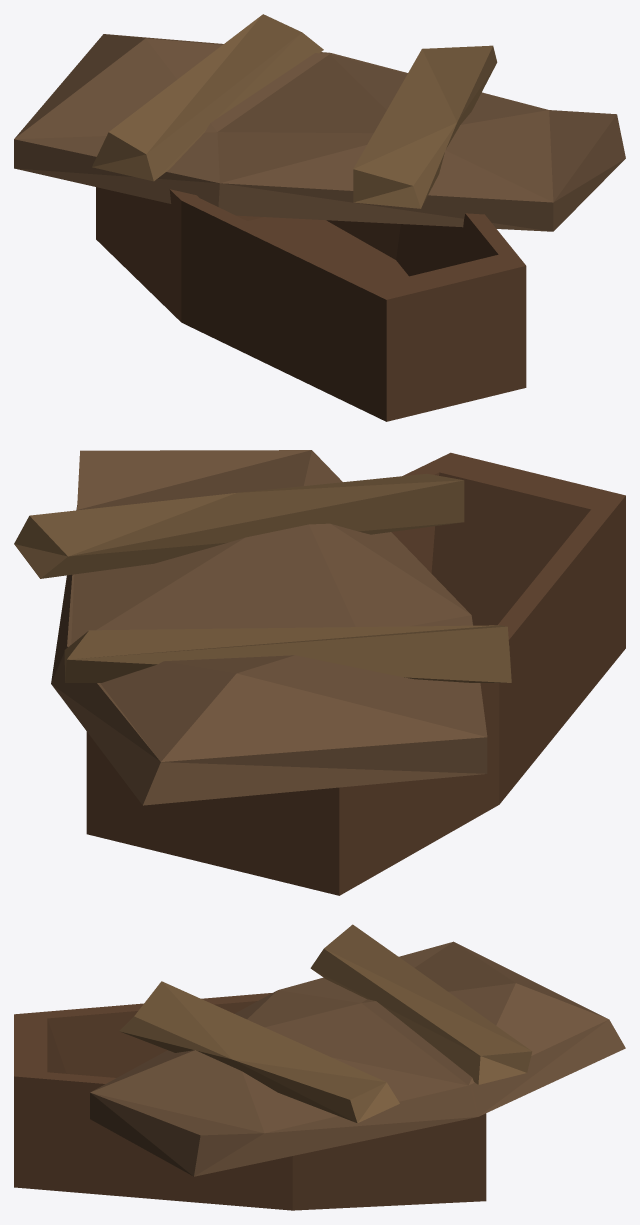
The model's file is coffin_01.fbx.
3 views of the same model, one above another, from view 1: azimuth 30°, elevation 25°; view 2: azimuth 150°, elevation 25°; view 3: azimuth 270°, elevation 25° (orthographic). The views are drawn at different scales.
Parts seen in each view (by area): view 1: coffin_01; view 2: coffin_01; view 3: coffin_01.
Part boxes in pixels (box(x1,y1,x2,y2)): coffin_01: box(14, 14, 625, 421); coffin_01: box(14, 450, 625, 895); coffin_01: box(14, 924, 625, 1210).
Size of the model in its own units: 4.52 by 1.67 by 5.61.
